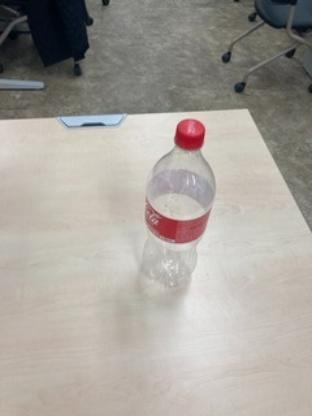Plastic Bottle: (141, 114, 217, 298)
